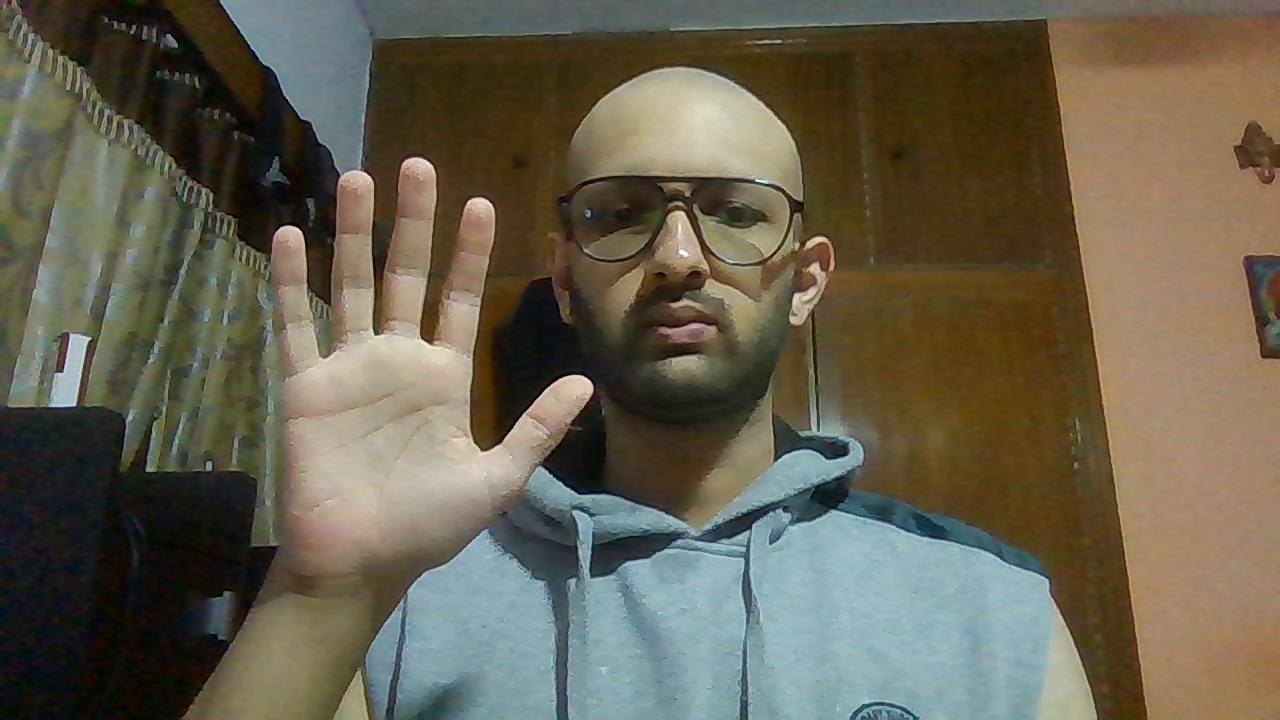Hello: (215, 150, 601, 592)
